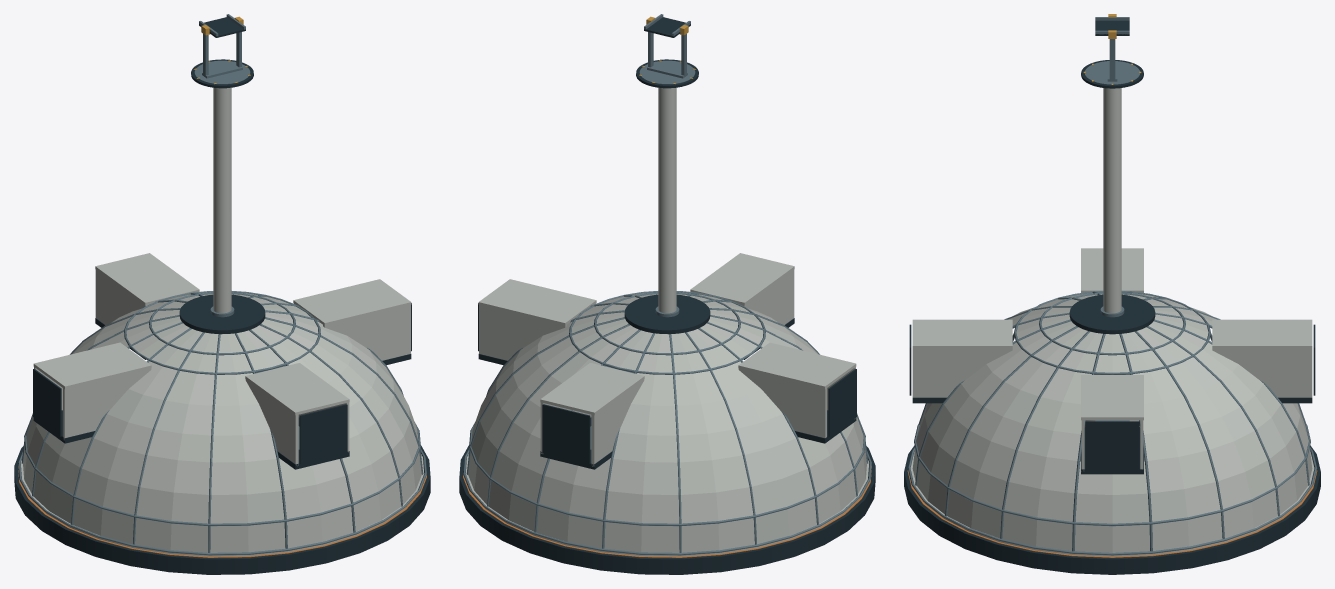
The model's file is power_d0_lod1.glb.
3 views of the same model, side by side, from view 1: azimuth 30°, elevation 25°; view 2: azimuth 150°, elevation 25°; view 3: azimuth 270°, elevation 25° (orthographic).
Parts seen in each view (by area): view 1: SHELL, BODY, PORT_CAP_N, PORT_CAP_W, FORK, CRADLE; view 2: SHELL, BODY, PORT_CAP_S, PORT_CAP_W, FORK, CRADLE; view 3: SHELL, BODY, PORT_CAP_E, CRADLE.
Boxes of the visible parts, box(x1,y1,x2,y2) form: SHELL: box(23, 292, 421, 552); BODY: box(14, 59, 430, 574); PORT_CAP_N: box(299, 404, 347, 463); PORT_CAP_W: box(33, 369, 61, 436); FORK: box(201, 16, 243, 78); CRADLE: box(199, 14, 245, 37); SHELL: box(468, 292, 866, 552); BODY: box(459, 59, 875, 574); PORT_CAP_S: box(542, 404, 590, 463); PORT_CAP_W: box(828, 369, 856, 436); FORK: box(646, 16, 688, 78); CRADLE: box(644, 14, 690, 37); SHELL: box(912, 293, 1312, 552); BODY: box(904, 60, 1320, 574); PORT_CAP_E: box(1085, 421, 1139, 469); CRADLE: box(1095, 17, 1129, 35).
Size of the model in its own units: 29.2 by 35.85 by 29.2.
